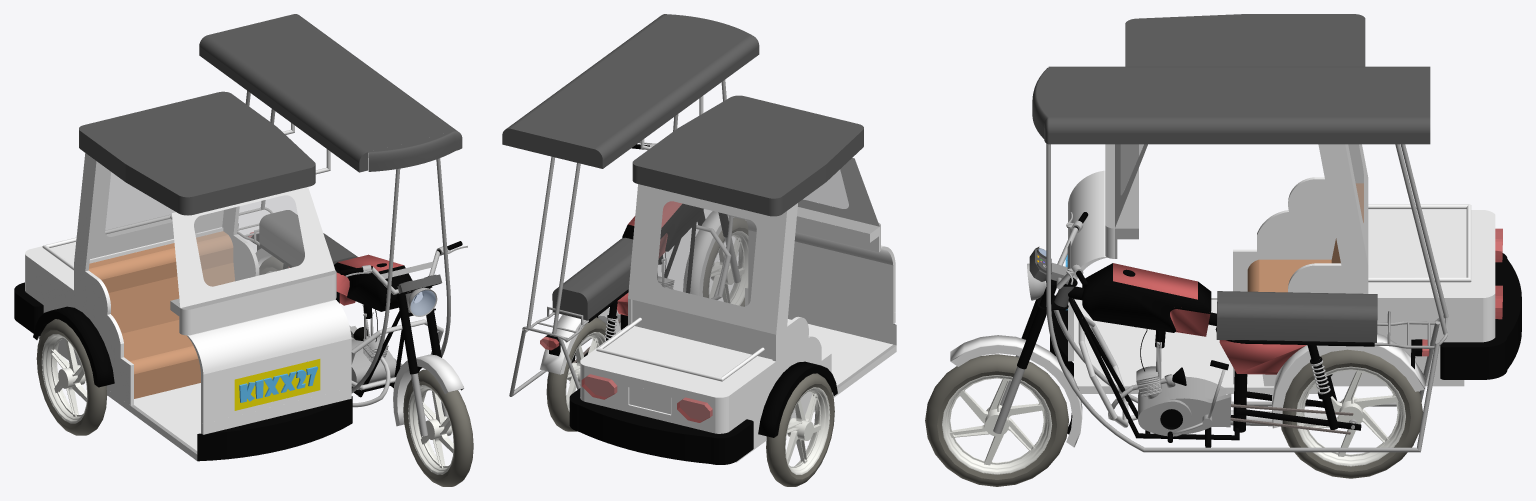
Rendered from tricycle.glb.
The picture shows the model from 3 angles, left to right: view 1: azimuth 30°, elevation 25°; view 2: azimuth 150°, elevation 25°; view 3: azimuth 270°, elevation 25°; orthographic projection. The views are drawn at different scales.
Visible parts, largest first — view 1: Material2 (×15), Material3; view 2: Material2 (×12), Material3; view 3: Material2 (×14), Material3 (×2).
Boxes of the visible parts, left/top/right/bottom form: Material2 (×15): left=14, top=14, right=473, bottom=486; Material3: left=88, top=231, right=234, bottom=398; Material2 (×12): left=502, top=14, right=896, bottom=486; Material3: left=626, top=215, right=895, bottom=418; Material2 (×14): left=925, top=14, right=1521, bottom=486; Material3 (×2): left=1038, top=170, right=1363, bottom=384.
Size of the model in its own units: 65.87 by 70.51 by 97.85.
